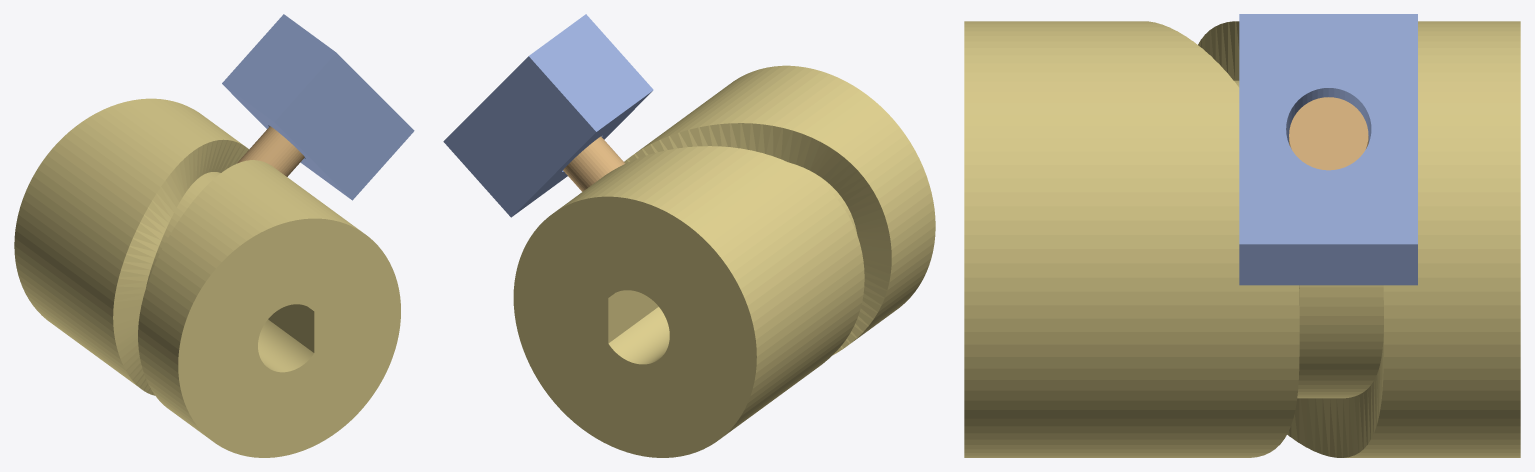
File: barrel_cam_demo.glb
3 views of the same model, side by side, from view 1: azimuth 30°, elevation 25°; view 2: azimuth 150°, elevation 25°; view 3: azimuth 270°, elevation 25° (orthographic). The views are drawn at different scales.
Parts seen in each view (by area): view 1: barrel_cam, pin_guide, follower_pin; view 2: barrel_cam, pin_guide, follower_pin; view 3: barrel_cam, pin_guide, follower_pin.
Boxes of the visible parts, box(x1,y1,x2,y2) form: barrel_cam: box(14, 98, 400, 457); pin_guide: box(222, 14, 414, 200); follower_pin: box(237, 126, 304, 176); barrel_cam: box(513, 65, 935, 457); pin_guide: box(443, 14, 653, 217); follower_pin: box(563, 136, 625, 191); barrel_cam: box(964, 21, 1520, 457); pin_guide: box(1239, 14, 1417, 285); follower_pin: box(1289, 97, 1368, 170).
Size of the model in its own units: 31.33 by 29.42 by 28.
